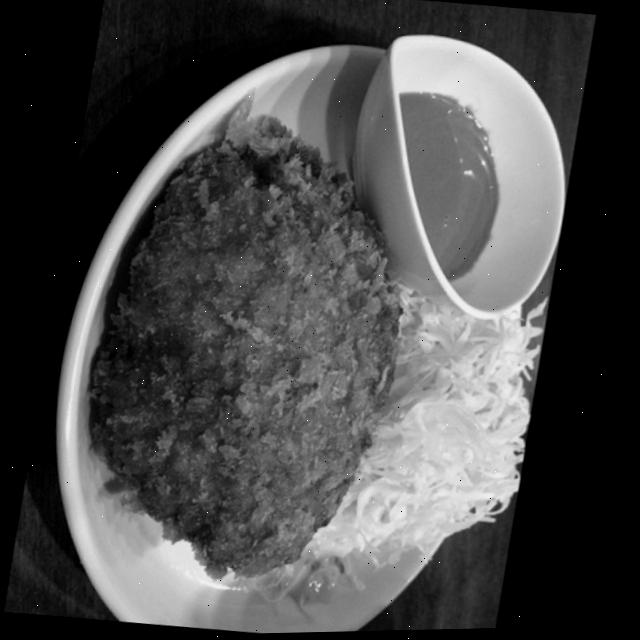炸货点心: (95, 129, 431, 593)
